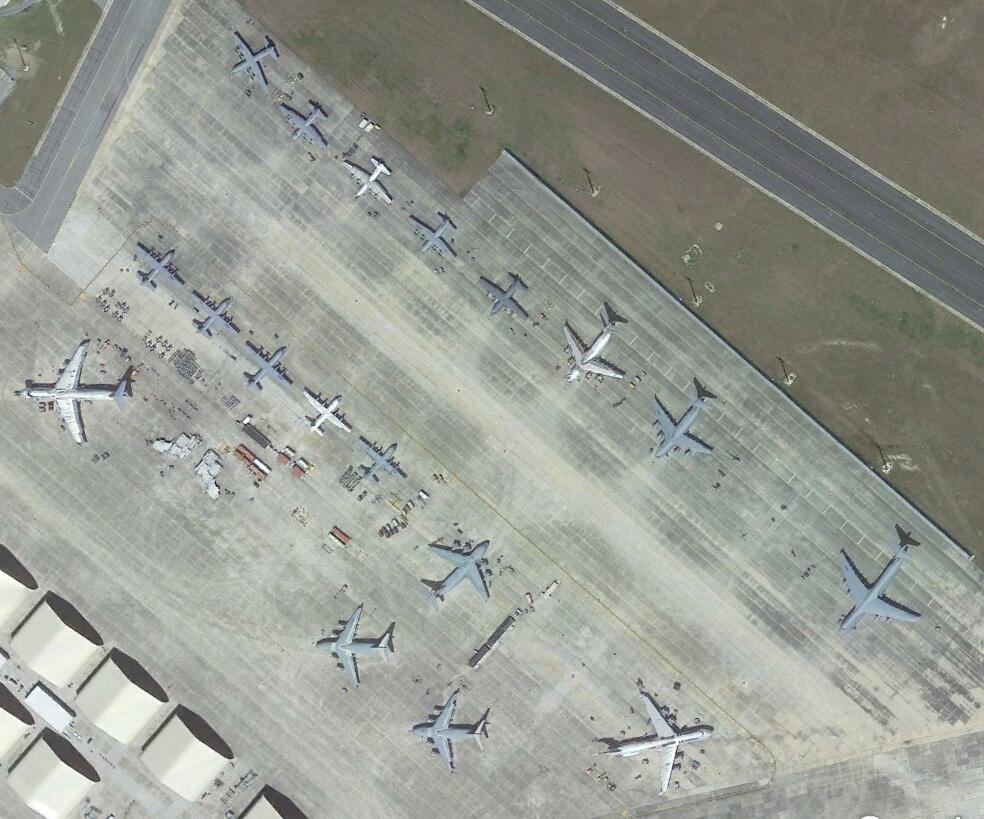A2: (229, 30, 281, 97), (477, 272, 535, 325), (300, 385, 355, 438), (132, 241, 191, 289), (407, 210, 460, 263), (276, 101, 335, 148), (240, 343, 298, 390), (341, 157, 397, 205), (192, 290, 244, 341), (355, 438, 412, 483)
A3: (318, 606, 396, 687), (411, 693, 489, 772), (427, 537, 498, 607), (565, 312, 632, 386), (650, 395, 717, 463)
A4: (23, 343, 130, 444), (610, 692, 716, 793), (832, 537, 935, 632)
